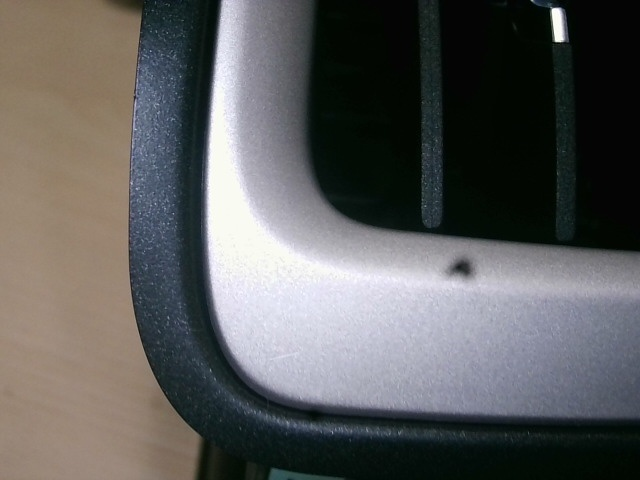NG: (268, 342, 303, 369)
